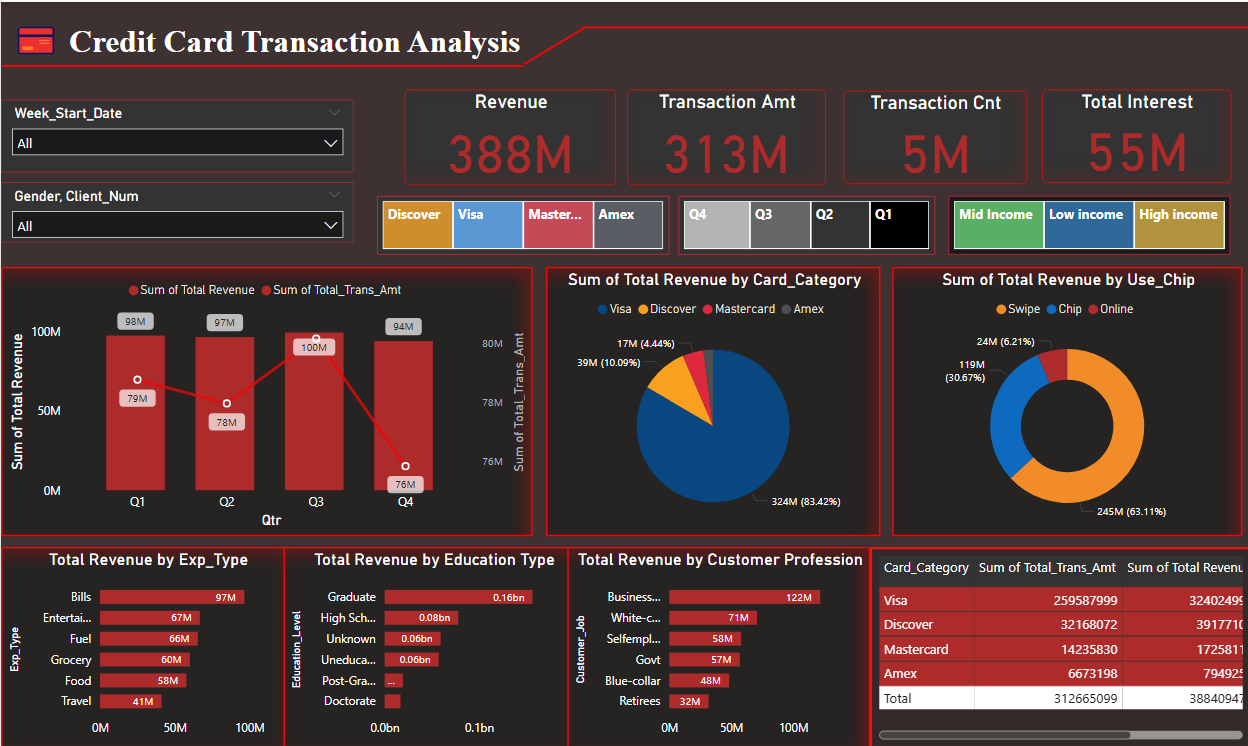

What the dashboard file says about the page in this screenshot:
{"tool":"powerbi","page":{"name":"Credit Transaction Report","canvas":[1275,760],"ordinal":0},"visuals":[{"type":"textbox","box":[0,11.5,554.7,53.2],"z":0},{"type":"image","box":[0,14.4,71.9,50.3],"z":1000},{"type":"shape","box":[518.8,25.9,90.5,38.8],"z":2000},{"type":"shape","box":[592.1,1.4,682.6,48.9],"z":3000},{"type":"lineStackedColumnComboChart","fields":{"Category":["transactionsdb cc_details.Qtr"],"Y":["Sum(transactionsdb cc_details.Total Revenue)"],"Y2":["Sum(transactionsdb cc_details.Total_Trans_Amt)"]},"box":[0,270.2,541.8,274.5],"z":4000},{"type":"barChart","title":"Total Revenue by Exp_Type","fields":{"Y":["Sum(transactionsdb cc_details.Total Revenue)"],"Category":["transactionsdb cc_details.Exp_Type"]},"box":[0,554.7,297.5,205.5],"z":5000},{"type":"donutChart","fields":{"Category":["transactionsdb cc_details.Use_Chip"],"Y":["Sum(transactionsdb cc_details.Total Revenue)"]},"box":[908.3,270.2,356.4,274.5],"z":6000},{"type":"pieChart","fields":{"Y":["Sum(transactionsdb cc_details.Total Revenue)"],"Category":["transactionsdb cc_details.Card_Category"]},"box":[554.7,270.2,340.6,274.5],"z":7000},{"type":"barChart","title":"Total Revenue by Education Type","fields":{"Y":["Sum(transactionsdb cc_details.Total Revenue)"],"Category":["transactionsdb cust_detail.Education_Level"]},"box":[287.4,554.7,304.7,205.5],"z":8000},{"type":"barChart","title":"Total Revenue by Customer Profession","fields":{"Y":["Sum(transactionsdb cc_details.Total Revenue)"],"Category":["transactionsdb cust_detail.Customer_Job"]},"box":[576.3,554.7,309,205.5],"z":9000},{"type":"tableEx","fields":{"Values":["transactionsdb cc_details.Card_Category","Sum(transactionsdb cc_details.Total_Trans_Amt)","Sum(transactionsdb cc_details.Total Revenue)","Sum(transactionsdb cc_details.Interest_Earned)"]},"box":[885.3,554.7,389.5,205.5],"z":10000},{"type":"card","title":"Revenue","fields":{"Values":["Sum(transactionsdb cc_details.Total Revenue)"]},"box":[411,89.1,215.6,97.7],"z":11000},{"type":"card","title":"Transaction Amt","fields":{"Values":["Sum(transactionsdb cc_details.Total_Trans_Amt)"]},"box":[638.1,89.1,202.6,97.7],"z":12000},{"type":"card","title":"Transaction Cnt","fields":{"Values":["Sum(transactionsdb cc_details.Total_Trans_Cnt)"]},"box":[858,90.5,186.8,94.9],"z":13000},{"type":"card","title":"Total Interest","fields":{"Values":["Sum(transactionsdb cc_details.Interest_Earned)"]},"box":[1060.6,89.1,192.6,94.9],"z":14000},{"type":"slicer","fields":{"Values":["transactionsdb cc_details.Week_Start_Date"]},"box":[0,99.2,359.3,74.7],"z":15000},{"type":"treemap","fields":{"Group":["transactionsdb cc_details.Qtr"],"Values":["Avg(transactionsdb cc_details.Client_Num)"]},"box":[689.8,196.9,261.6,60.4],"z":16000},{"type":"slicer","fields":{"Values":["transactionsdb cust_detail.Gender","transactionsdb cc_details.Client_Num"]},"box":[0,184,359.3,61.8],"z":17000},{"type":"treemap","fields":{"Values":["Avg(transactionsdb cc_details.Client_Num)"],"Group":["transactionsdb cc_details.Card_Category"]},"box":[383.7,196.9,297.5,60.4],"z":18000},{"type":"treemap","fields":{"Values":["Avg(transactionsdb cc_details.Client_Num)"],"Group":["transactionsdb cust_detail.Income_Group"]},"box":[965.7,196.9,287.4,60.4],"z":19000},{"type":"shape","box":[0,40.2,531.7,48.9],"z":20000}]}

Visuals, with their boxes in screenshot pixels (x1, y1, x2, y2), scaled from the page's 1275x760 canvas onto the 1248x746 screenshot:
textbox: crop(0, 11, 543, 64)
image: crop(0, 14, 70, 64)
shape: crop(508, 25, 596, 64)
shape: crop(580, 1, 1247, 49)
lineStackedColumnComboChart - transactionsdb cc_details.Qtr x Sum(transactionsdb cc_details.Total Revenue): crop(0, 265, 530, 535)
"Total Revenue by Exp_Type" barChart: crop(0, 544, 291, 745)
donutChart - transactionsdb cc_details.Use_Chip x Sum(transactionsdb cc_details.Total Revenue): crop(889, 265, 1238, 535)
pieChart - Sum(transactionsdb cc_details.Total Revenue) x transactionsdb cc_details.Card_Category: crop(543, 265, 876, 535)
"Total Revenue by Education Type" barChart: crop(281, 544, 580, 745)
"Total Revenue by Customer Profession" barChart: crop(564, 544, 867, 745)
tableEx - transactionsdb cc_details.Card_Category x Sum(transactionsdb cc_details.Total_Trans_Amt): crop(867, 544, 1247, 745)
"Revenue" card: crop(402, 87, 613, 183)
"Transaction Amt" card: crop(625, 87, 823, 183)
"Transaction Cnt" card: crop(840, 89, 1023, 182)
"Total Interest" card: crop(1038, 87, 1227, 181)
slicer - transactionsdb cc_details.Week_Start_Date: crop(0, 97, 352, 171)
treemap - transactionsdb cc_details.Qtr x Avg(transactionsdb cc_details.Client_Num): crop(675, 193, 931, 253)
slicer - transactionsdb cust_detail.Gender x transactionsdb cc_details.Client_Num: crop(0, 181, 352, 241)
treemap - Avg(transactionsdb cc_details.Client_Num) x transactionsdb cc_details.Card_Category: crop(376, 193, 667, 253)
treemap - Avg(transactionsdb cc_details.Client_Num) x transactionsdb cust_detail.Income_Group: crop(945, 193, 1227, 253)
shape: crop(0, 39, 520, 87)
